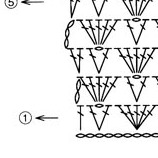double treble: (74, 120, 158, 152)
enseble_chain: (92, 71, 129, 109), (93, 15, 127, 52), (74, 13, 104, 51), (128, 99, 158, 136), (110, 42, 140, 79), (89, 102, 121, 136), (114, 100, 143, 134), (127, 17, 156, 50), (130, 44, 158, 78), (90, 46, 118, 78), (78, 74, 103, 107), (121, 71, 144, 104), (82, 103, 105, 135), (63, 47, 86, 78), (72, 105, 90, 133), (35, 109, 60, 125), (71, 78, 85, 106), (131, 47, 146, 73), (16, 109, 35, 128), (62, 24, 75, 50), (129, 104, 143, 128), (20, 0, 45, 11), (132, 0, 146, 18), (3, 0, 16, 9)
fan: (130, 47, 145, 74), (126, 104, 142, 129), (74, 47, 87, 74)
